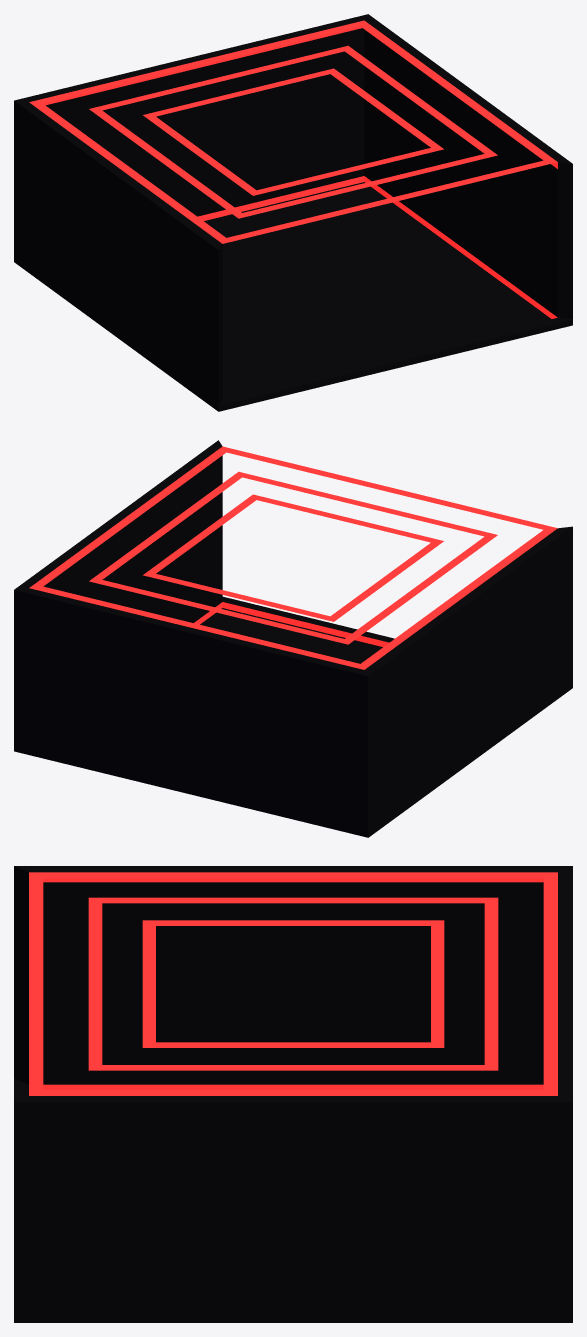
Rendered from floor.glb.
The picture shows the model from 3 angles, top to bottom: view 1: azimuth 30°, elevation 25°; view 2: azimuth 150°, elevation 25°; view 3: azimuth 270°, elevation 25°; orthographic projection. The views are drawn at different scales.
Parts seen in each view (by area): view 1: Plane; view 2: Plane; view 3: Plane.
Part boxes in pixels (x1,y1,x2,y2): Plane: (14, 14, 572, 411); Plane: (14, 440, 572, 837); Plane: (14, 866, 572, 1322).
Size of what is drawn, in the model's own units: 16 by 6.97 by 16.
